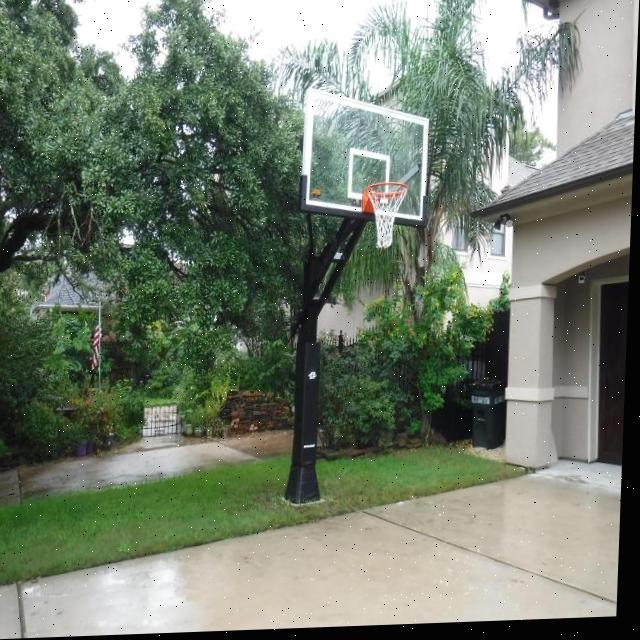hoop: (349, 164, 426, 262)
